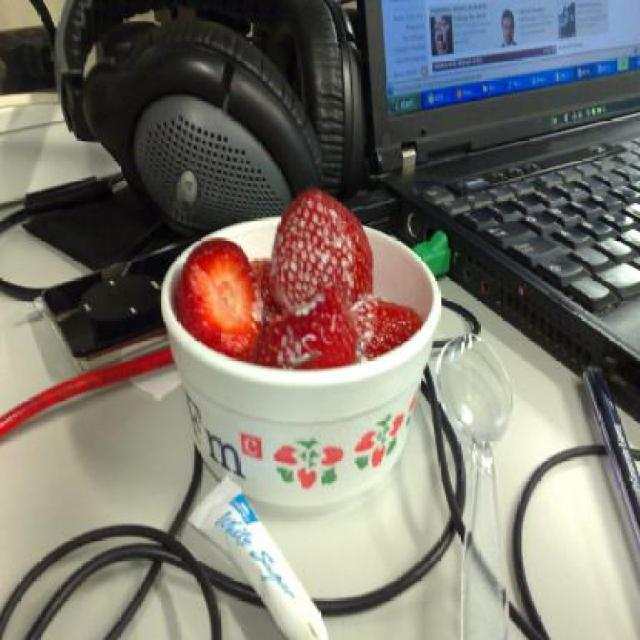Strawberry: (268, 190, 372, 315), (170, 222, 268, 346), (256, 291, 356, 374), (351, 296, 418, 366)
